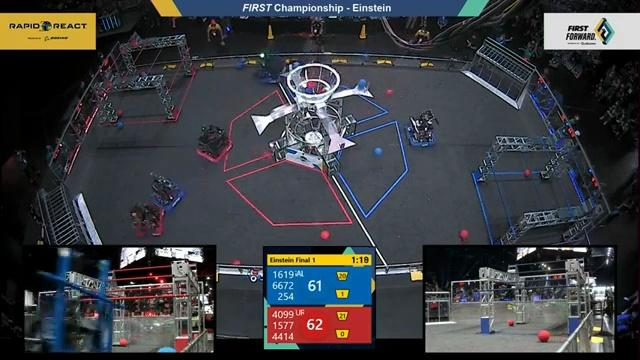robot: (400, 102, 442, 152), (193, 121, 236, 168), (147, 173, 186, 216), (127, 202, 166, 240), (249, 46, 286, 86)
